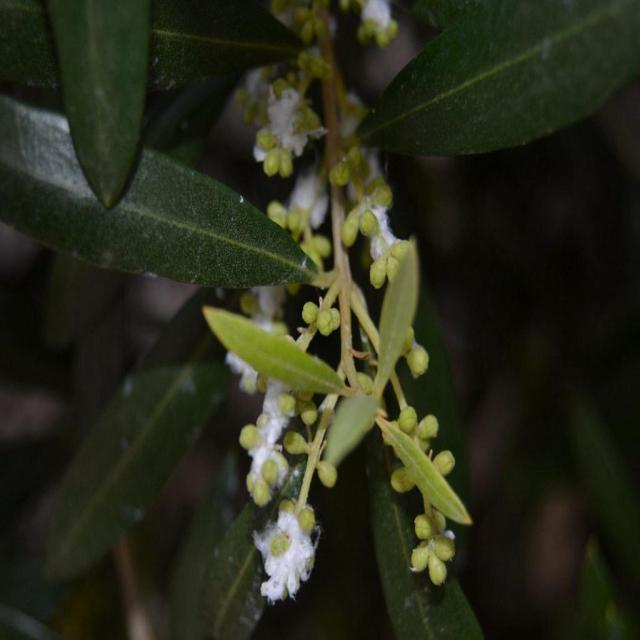Psyllid: (331, 147, 406, 282), (246, 68, 322, 188), (254, 499, 319, 603), (241, 383, 294, 507)
